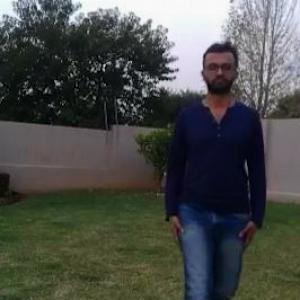follow: (172, 45, 260, 299)
